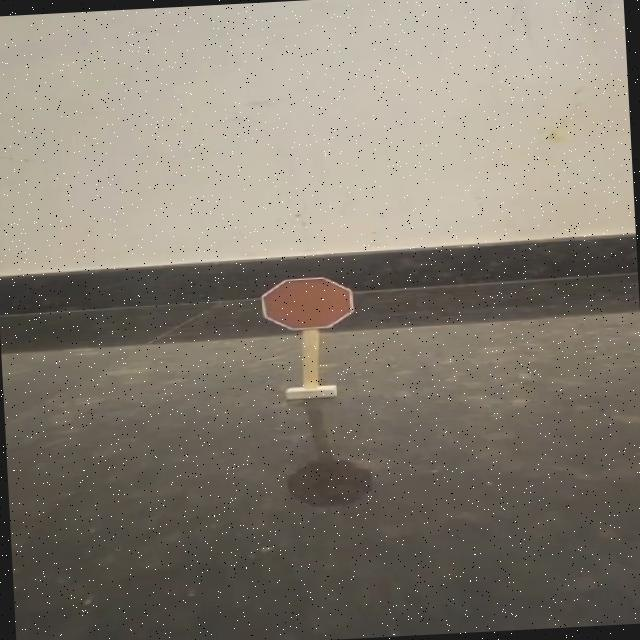Stop: (246, 266, 372, 340)
